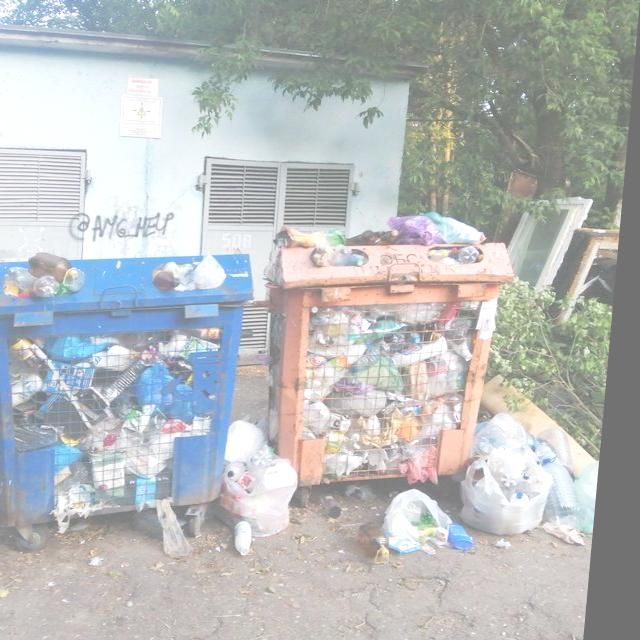Trash_Can_Full: (255, 211, 524, 485), (0, 253, 265, 524)
